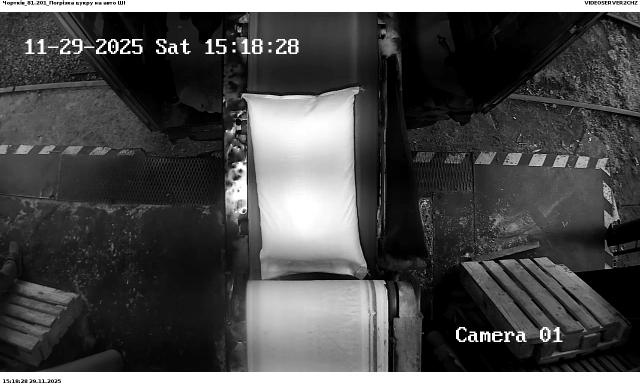bag: (242, 86, 370, 280)
